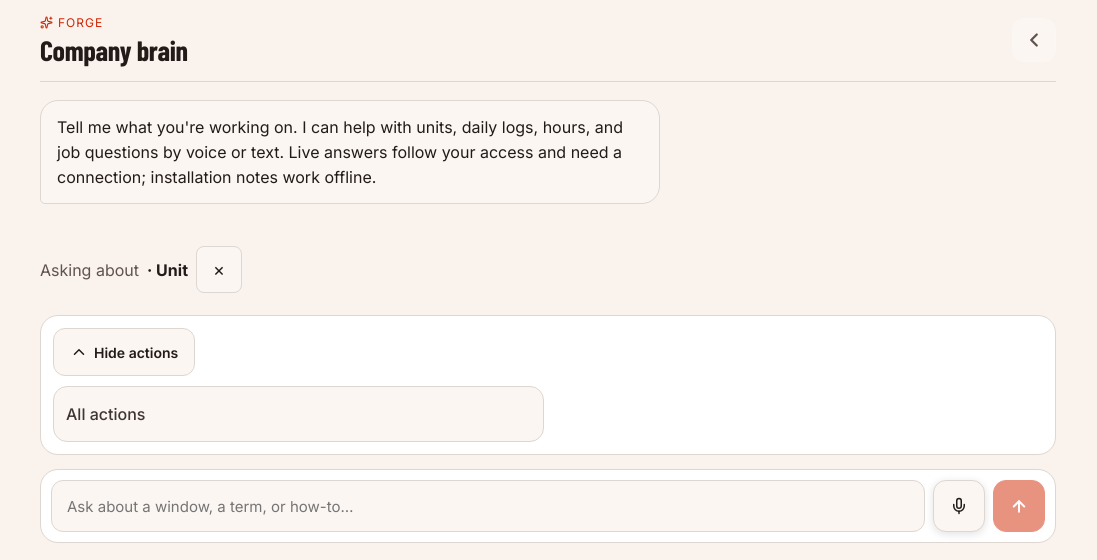
Test case: action cards › hides the cards while a recording is starting or running
Click the button named "Record a voice message": [959, 506] box [933,480,985,532]
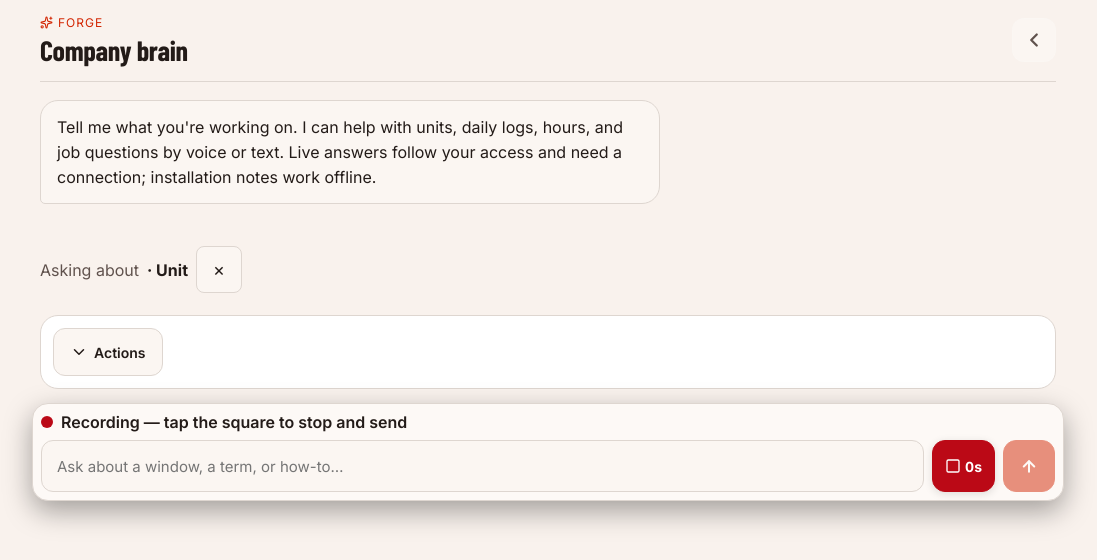
Expected: the element with class "ask-cards" is gone
